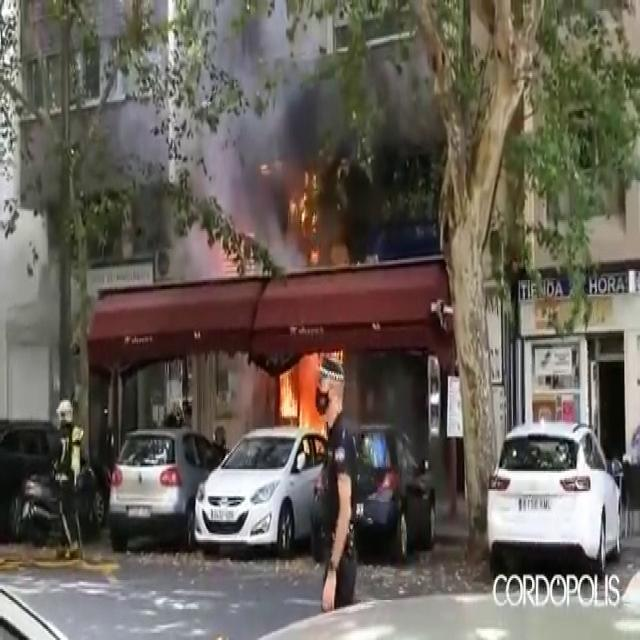Fire: (272, 348, 339, 441)
Smoke: (210, 0, 467, 217)
